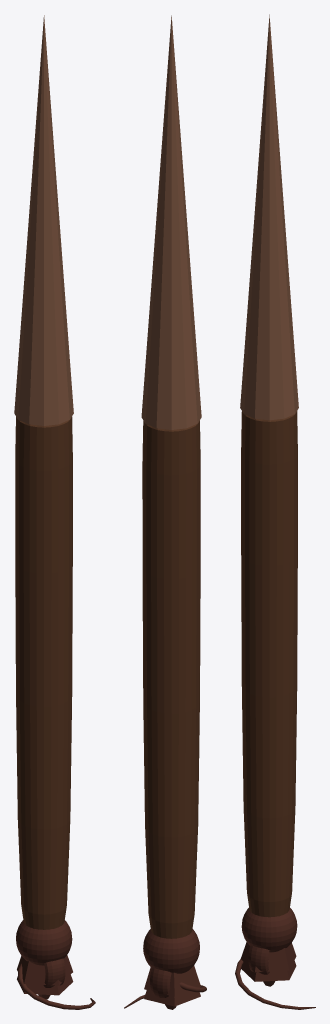
File: Wand 28.glb
3 views of the same model, side by side, from view 1: azimuth 30°, elevation 25°; view 2: azimuth 150°, elevation 25°; view 3: azimuth 330°, elevation 25° (orthographic). The views are drawn at different scales.
Visible parts, largest first — view 1: GeneratedWand, Pommel_4, Pommel_10, Pommel_2, Pommel_9; view 2: GeneratedWand, Pommel_4, Pommel_2, Pommel_9, Pommel_10; view 3: GeneratedWand, Pommel_4, Pommel_9, Pommel_2, Pommel_10.
Boxes of the visible parts, box(x1,y1,x2,y2) form: GeneratedWand: box(14, 15, 73, 985); Pommel_4: box(16, 920, 72, 965); Pommel_10: box(18, 963, 95, 1009); Pommel_2: box(43, 958, 65, 987); Pommel_9: box(17, 974, 73, 995); GeneratedWand: box(141, 15, 201, 996); Pommel_4: box(143, 929, 199, 973); Pommel_2: box(150, 967, 171, 997); Pommel_9: box(144, 990, 200, 1006); Pommel_10: box(124, 982, 206, 1008); GeneratedWand: box(240, 14, 298, 972); Pommel_4: box(241, 908, 297, 952); Pommel_9: box(241, 960, 296, 981); Pommel_2: box(248, 945, 269, 974); Pommel_10: box(235, 959, 315, 1009).
Size of the model in its own units: 0.0402 by 0.52 by 0.0343.
